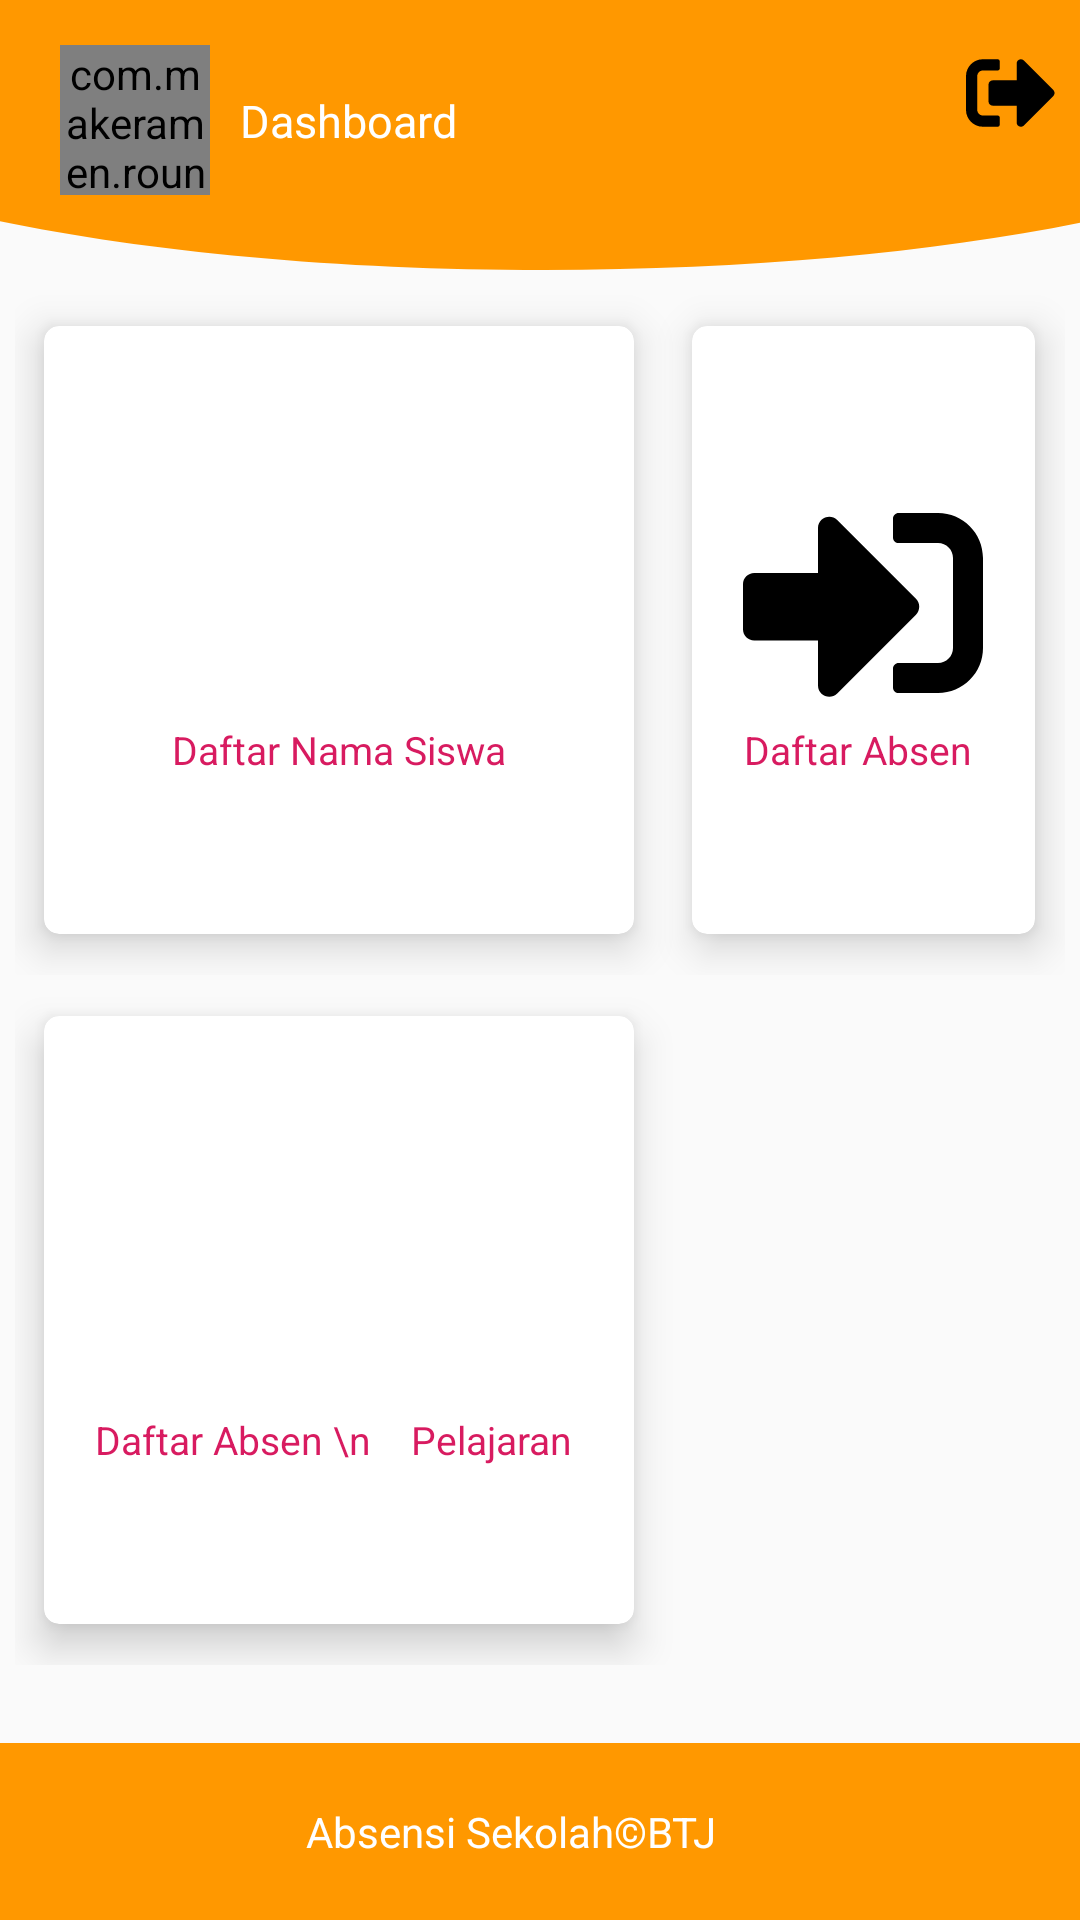

Icons on this 1080 × 1920 Android screen, each with its box as [left=x1, top=y1, right=x2, bottom=y2]:
masuk absen: [left=743, top=513, right=983, bottom=697]
